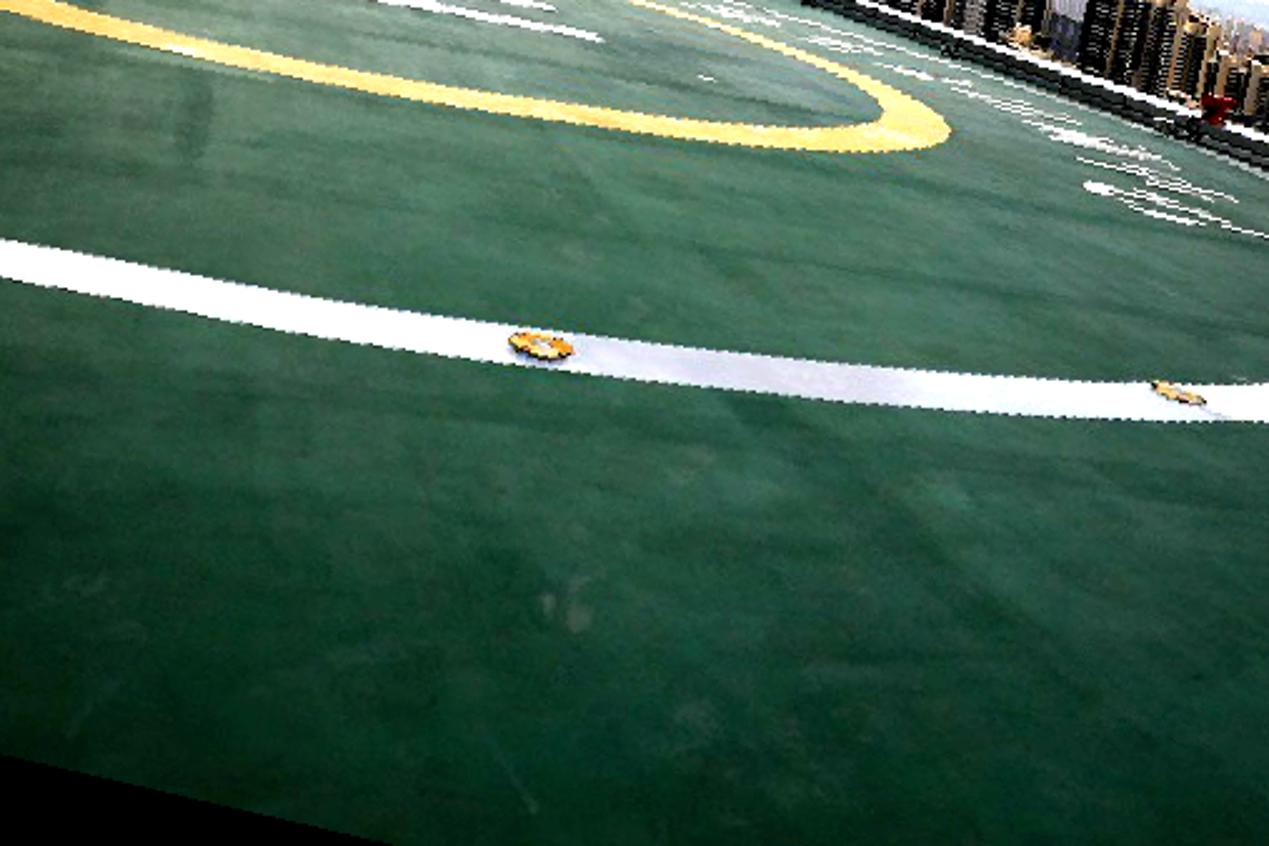Apron: (2, 1, 968, 167)
